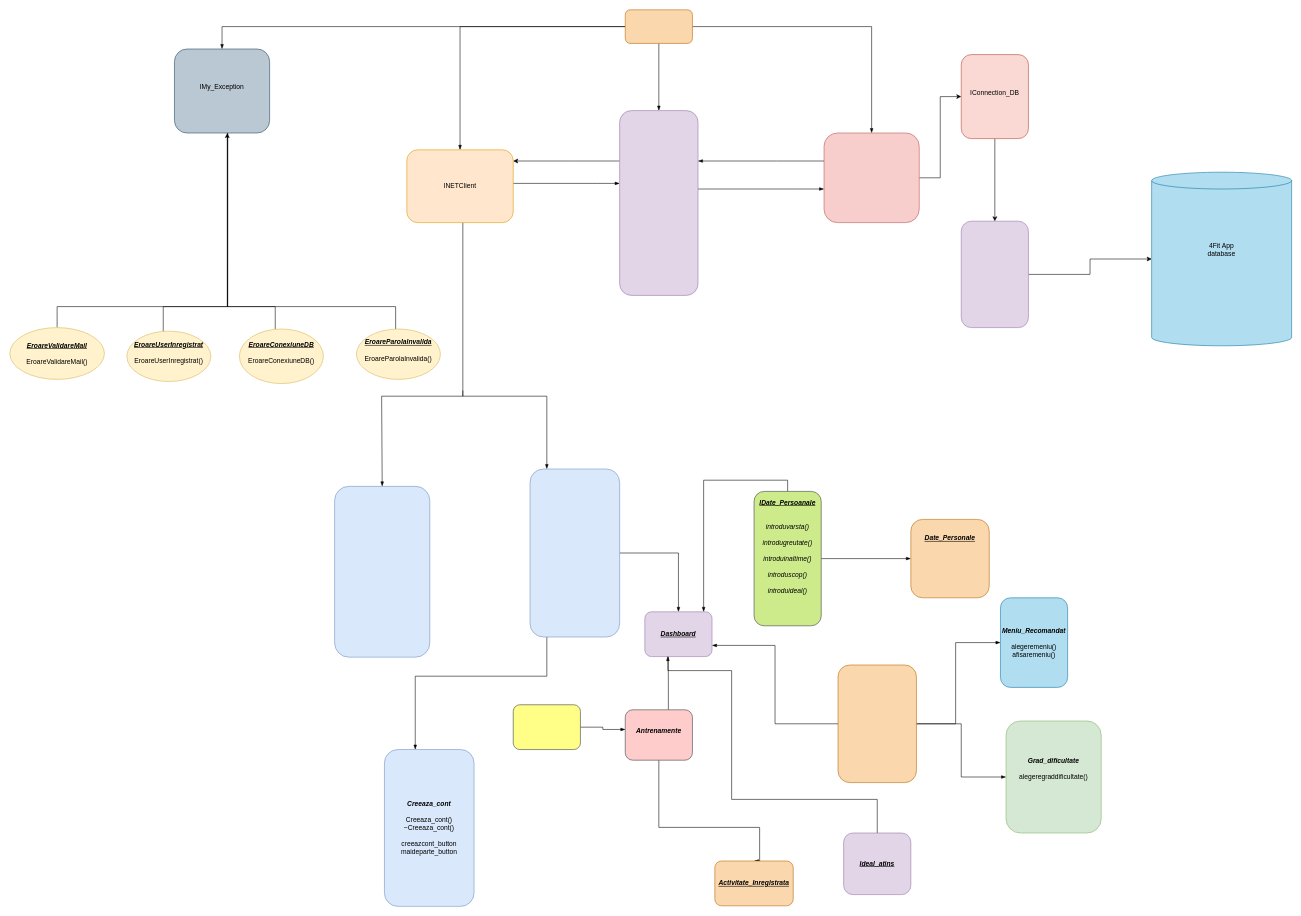
The diagram is 1301 pixels wide and 916 high, and some of its shapes have lost their labels. The centre of each missing label's shape, as x and y in pixels:
"Client_Backend -singleton-" goes at pixel 382 571.
"Cnnection_DB" goes at pixel 994 274.
"INETServer" goes at pixel 871 177.
"Intra_Cont Intra_Cont ~Intra_Cont Iintracont_button creeazacont_button" goes at pixel 574 552.
"IPersonalizare alegemeniu() alegegraddificultate()" goes at pixel 876 723.
"namespace_4Fit" goes at pixel 658 26.
"Net_Common Headers Files client.h common.h tsqueue message net connection server" goes at pixel 658 202.
"Numar_Calorii" goes at pixel 546 727.
